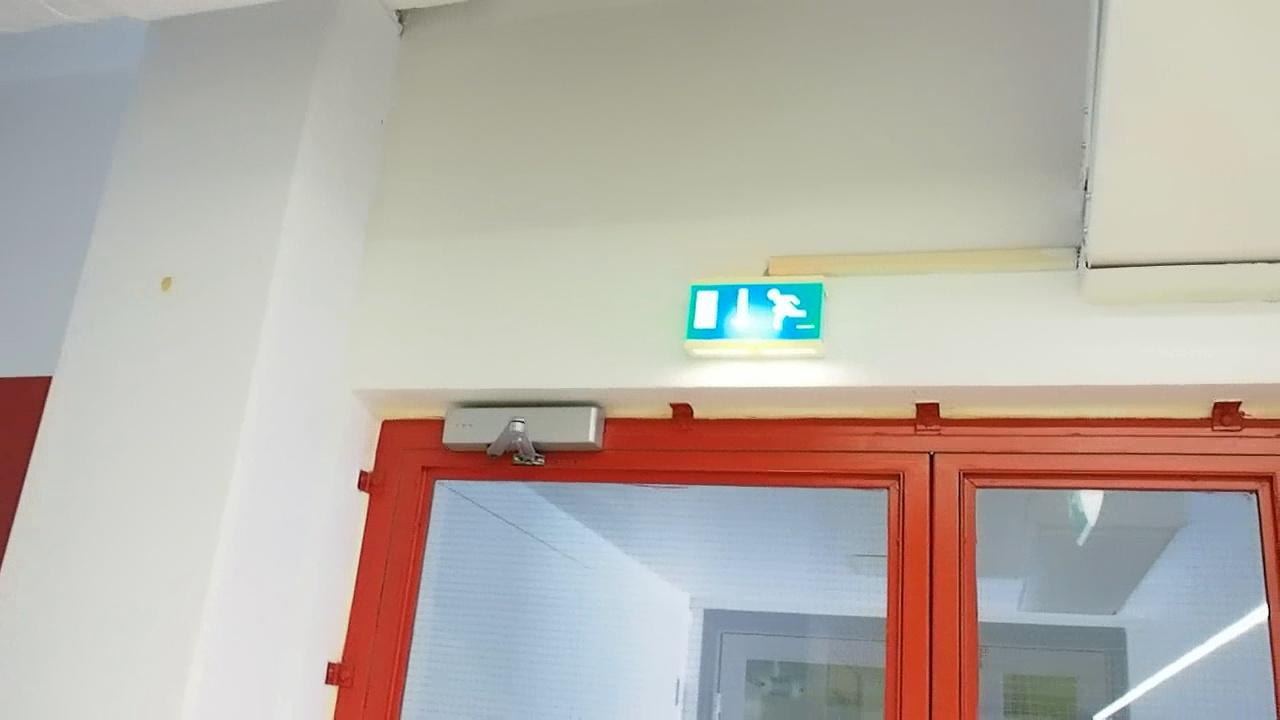exit: (688, 279, 829, 350)
